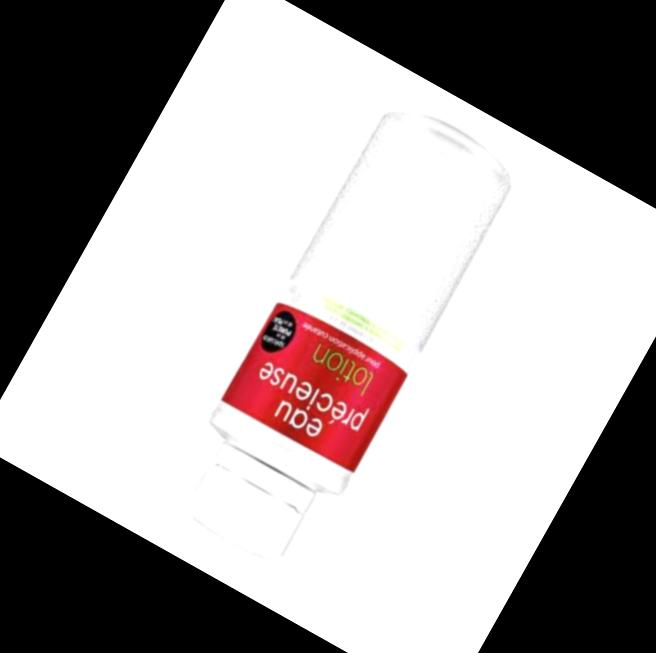cosmetic: (162, 110, 516, 578)
